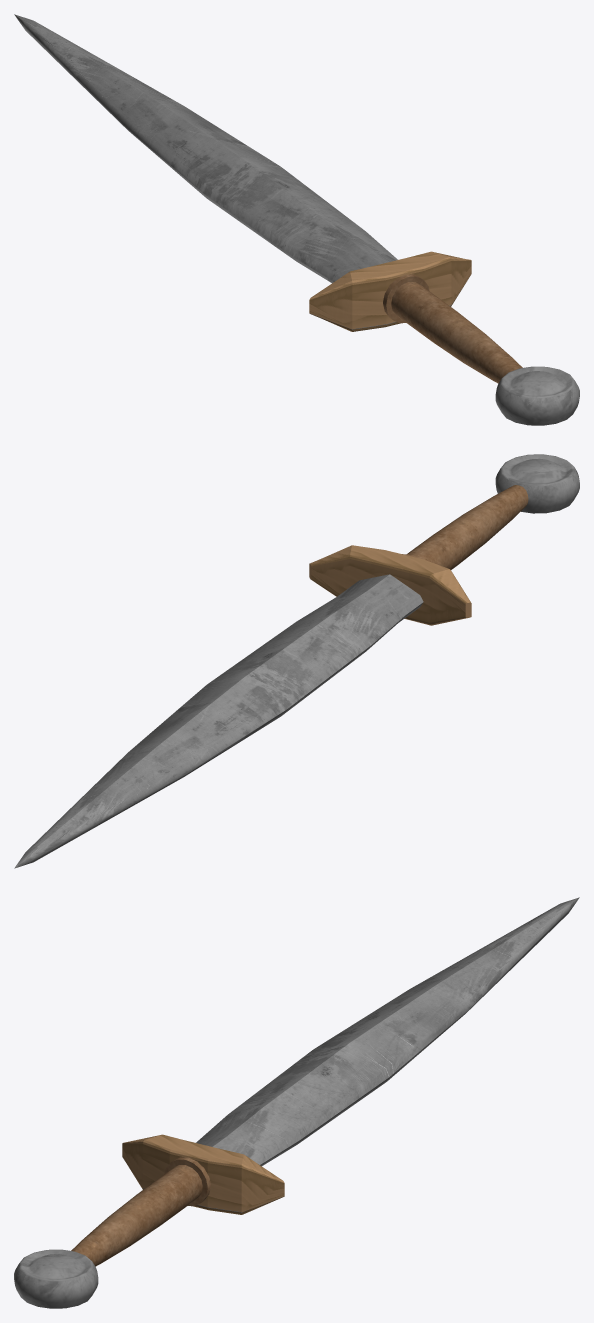
File: Dagger_2.fbx
The picture shows the model from 3 angles, top to bottom: view 1: azimuth 30°, elevation 25°; view 2: azimuth 150°, elevation 25°; view 3: azimuth 330°, elevation 25°; orthographic projection.
Parts seen in each view (by area): view 1: Gladius.007; view 2: Gladius.007; view 3: Gladius.007.
Boxes of the visible parts, x1=… form: Gladius.007: x1=14, y1=14, x2=579, y2=425; Gladius.007: x1=14, y1=454, x2=579, y2=868; Gladius.007: x1=14, y1=897, x2=579, y2=1308.
Size of the model in its own units: 12.53 by 3.79 by 72.85.
